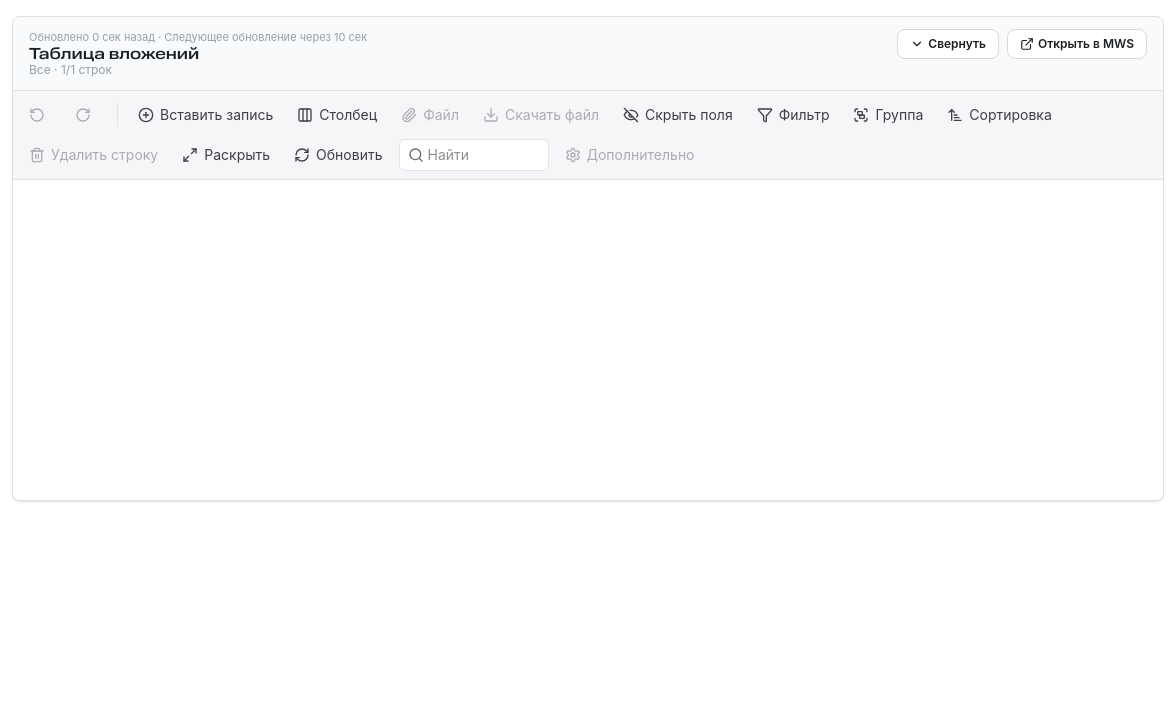
Test: MwsTableEmbedComponent › shows attachment widget near the selected cell and allows closing it
This screenshot has width=1176, height=720.
Step 1. Press the mouse on the drawing with test id "mws_canvas_grid" → x=588, y=340, box [13,180,1163,500]
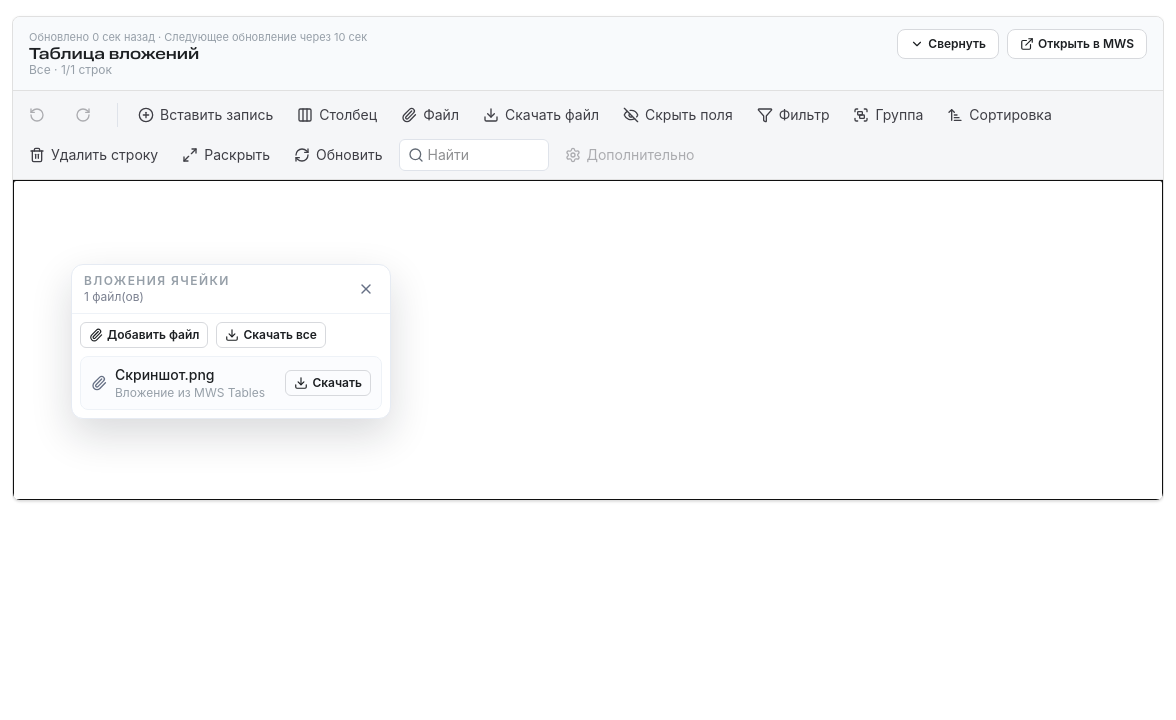
Check: the text "Скриншот.png" is shown, box [115,366,214,382]
Step 2. Click the button named "Закрыть виджет вложений" → x=366, y=288, box [354,276,378,300]
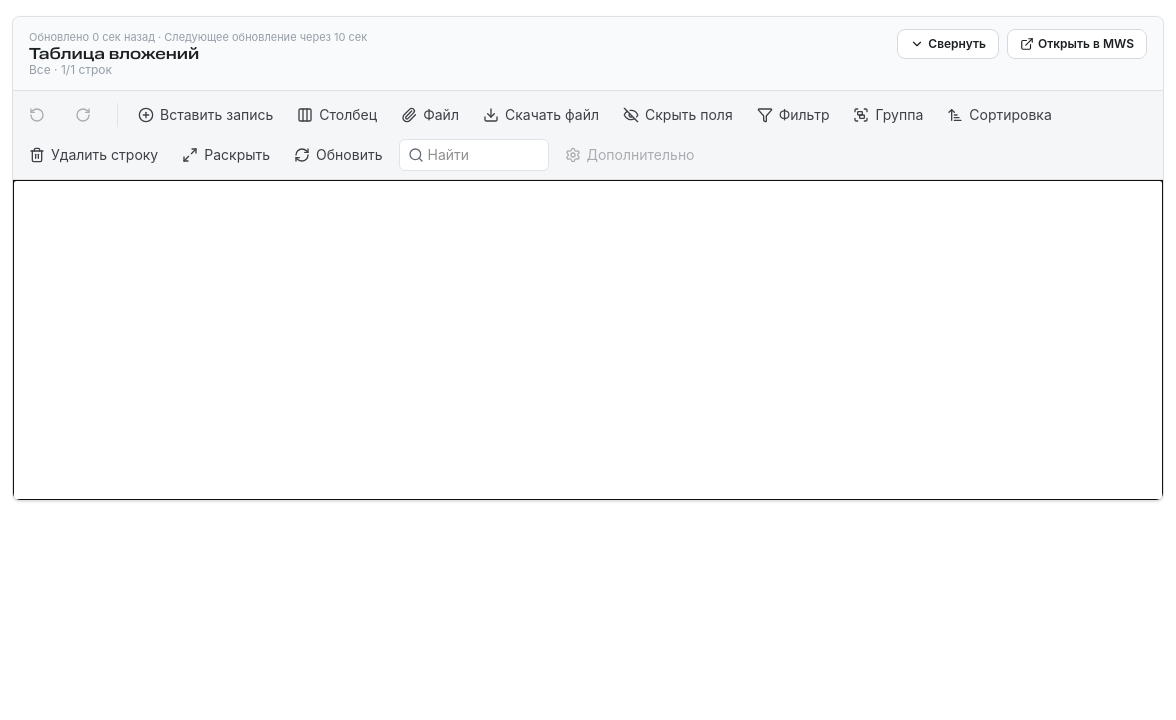
Check: the element with test id "mws_attachment_widget" is gone
